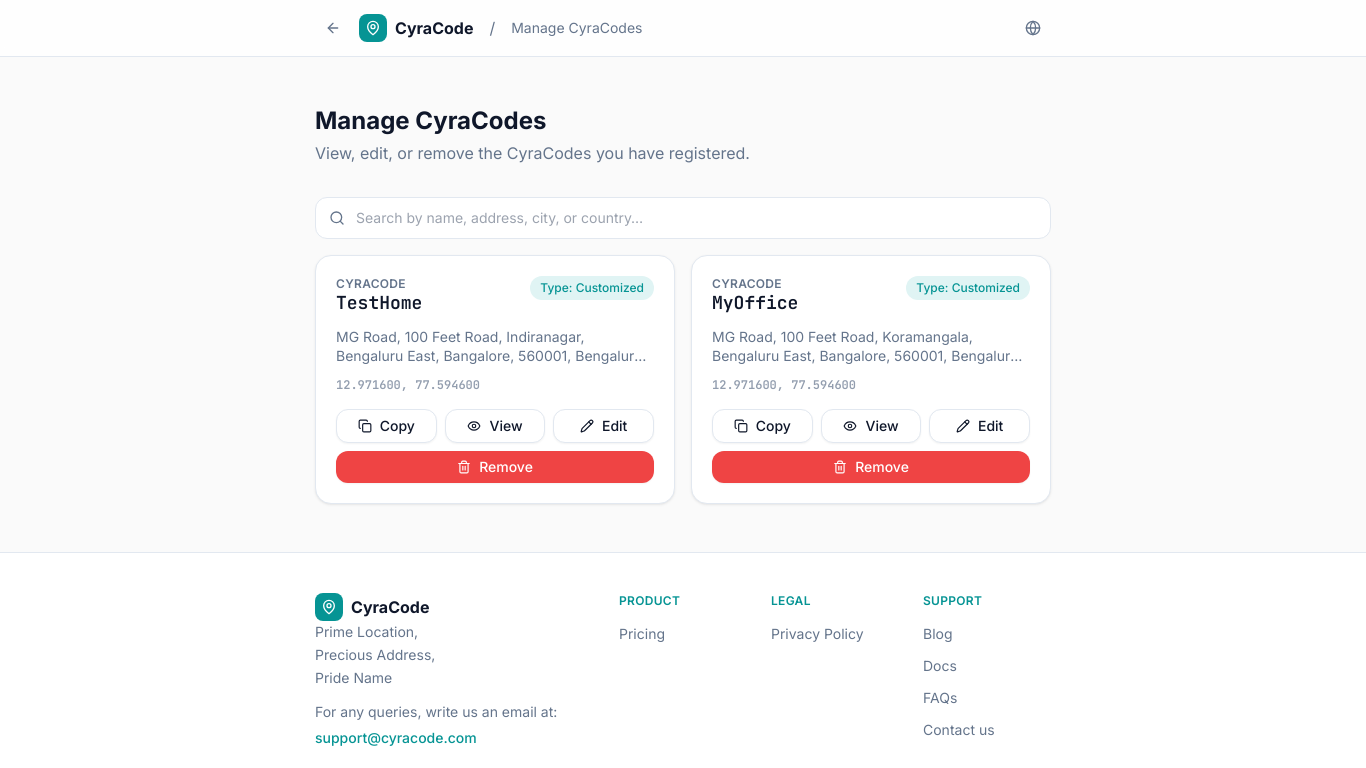
Test: ManageCyraCodes — search › shows a no-results message instead of an empty grid when nothing matches
The width and height of the screenshot is (1366, 768).
Check: the heading "TestHome" is shown, box [336,292,422,314]
Type "zzzznomatch" into the search field with test id "manage-search".
click(683, 218); type("zzzznomatch")  # box [315,197,1051,239]
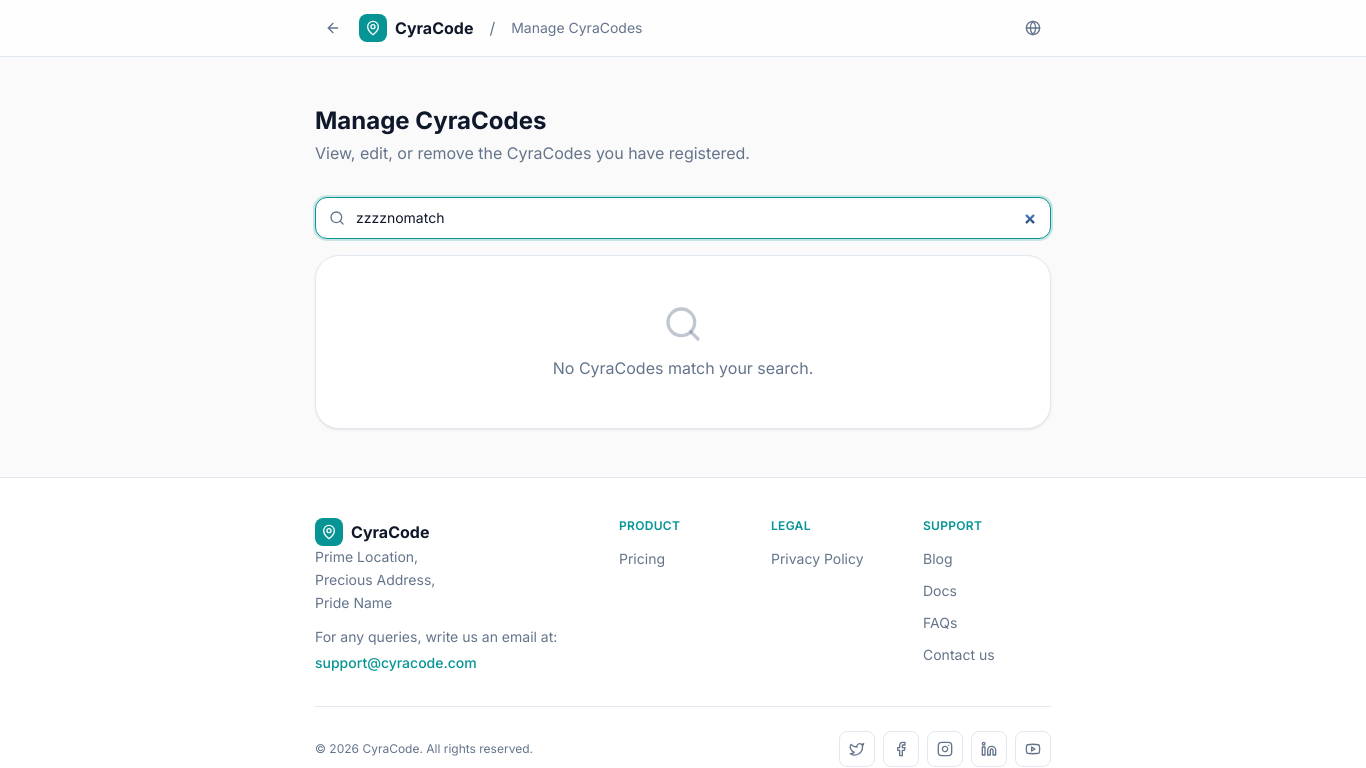
Check: the text "No CyraCodes match your search." is shown, box [553,358,813,378]
Check: the heading "TestHome" is gone
Check: the heading "MyOffice" is gone
